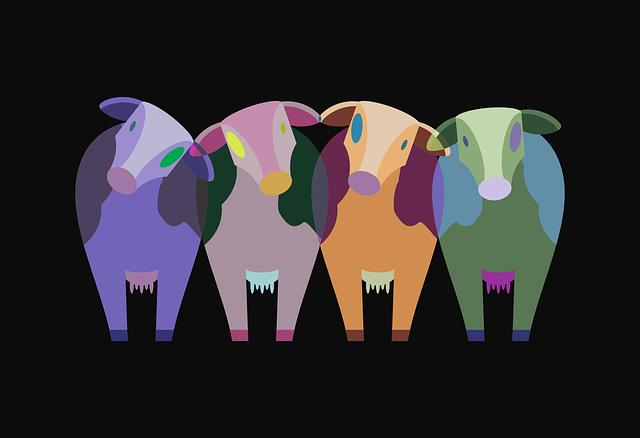Non_Gorille: (41, 11, 623, 379)
